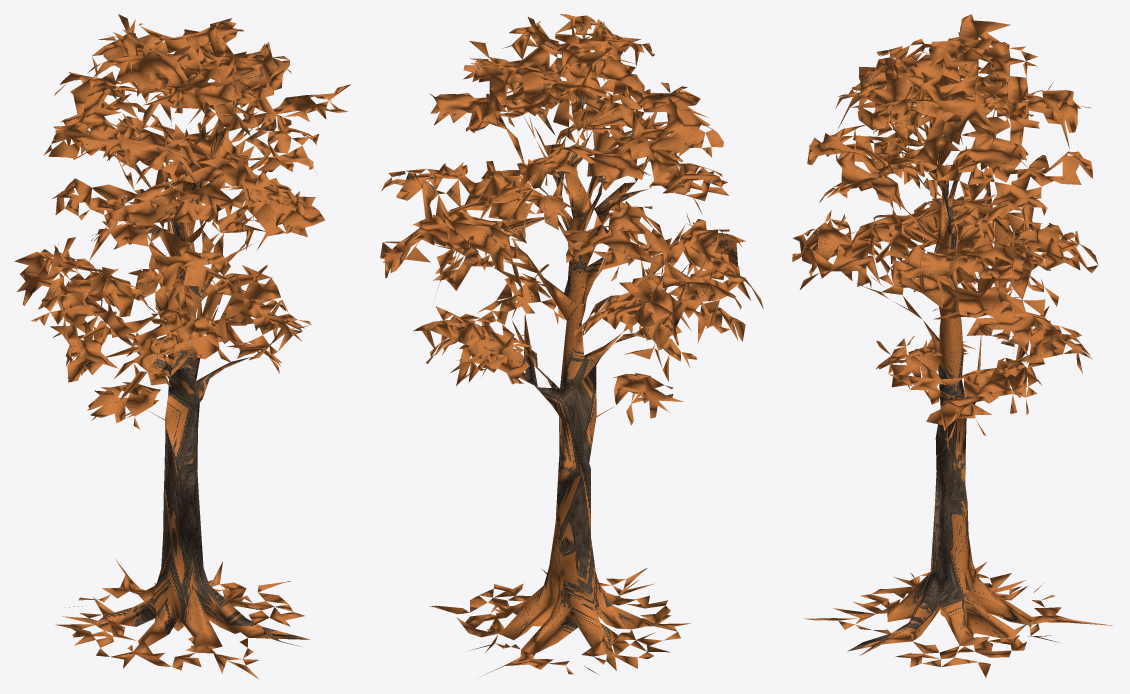
Rendered from tree_ember_mid.glb.
3 views of the same model, side by side, from view 1: azimuth 30°, elevation 25°; view 2: azimuth 150°, elevation 25°; view 3: azimuth 270°, elevation 25° (orthographic). The views are drawn at different scales.
Size of the model in its own units: 1.04 by 1.84 by 0.9255.
1 material, 1 textured.
